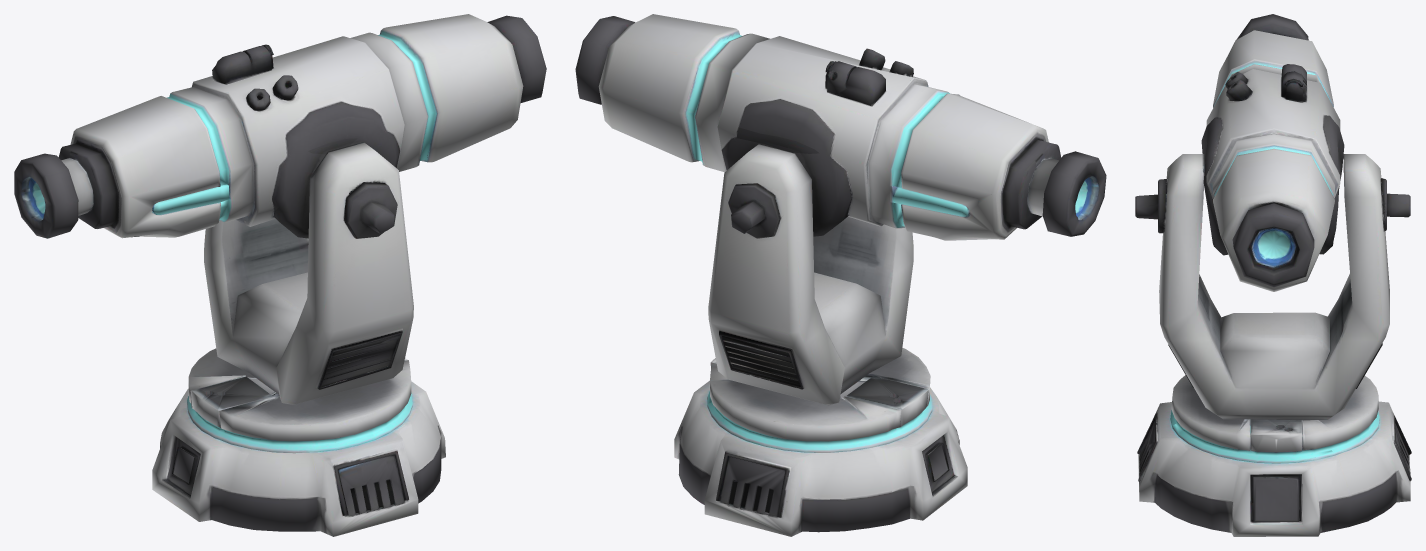
The model's file is selected.glb.
The picture shows the model from 3 angles, left to right: view 1: azimuth 30°, elevation 25°; view 2: azimuth 150°, elevation 25°; view 3: azimuth 270°, elevation 25°; orthographic projection. The views are drawn at different scales.
Visible parts, largest first — view 1: tripo_node_a03b8fb8-681a-485e-b732-a36169ff4e00; view 2: tripo_node_a03b8fb8-681a-485e-b732-a36169ff4e00; view 3: tripo_node_a03b8fb8-681a-485e-b732-a36169ff4e00.
Boxes of the visible parts, x1,y1,x2,y2 form: tripo_node_a03b8fb8-681a-485e-b732-a36169ff4e00: (14,14,546,536); tripo_node_a03b8fb8-681a-485e-b732-a36169ff4e00: (575,14,1106,536); tripo_node_a03b8fb8-681a-485e-b732-a36169ff4e00: (1135,14,1411,536).
Bounding box in the file's own units: 0.998 × 0.8223 × 0.5215.
Materials: 1 (1 with a texture image).
